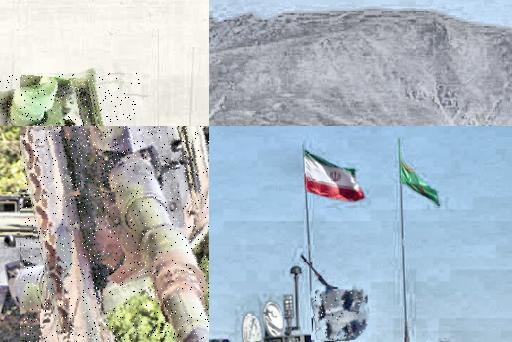tanks: (22, 127, 210, 342), (1, 74, 107, 127), (312, 294, 365, 341), (265, 312, 309, 342), (210, 341, 235, 342), (250, 340, 254, 342)
